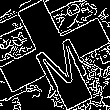M_NW: (23, 22, 87, 88)
